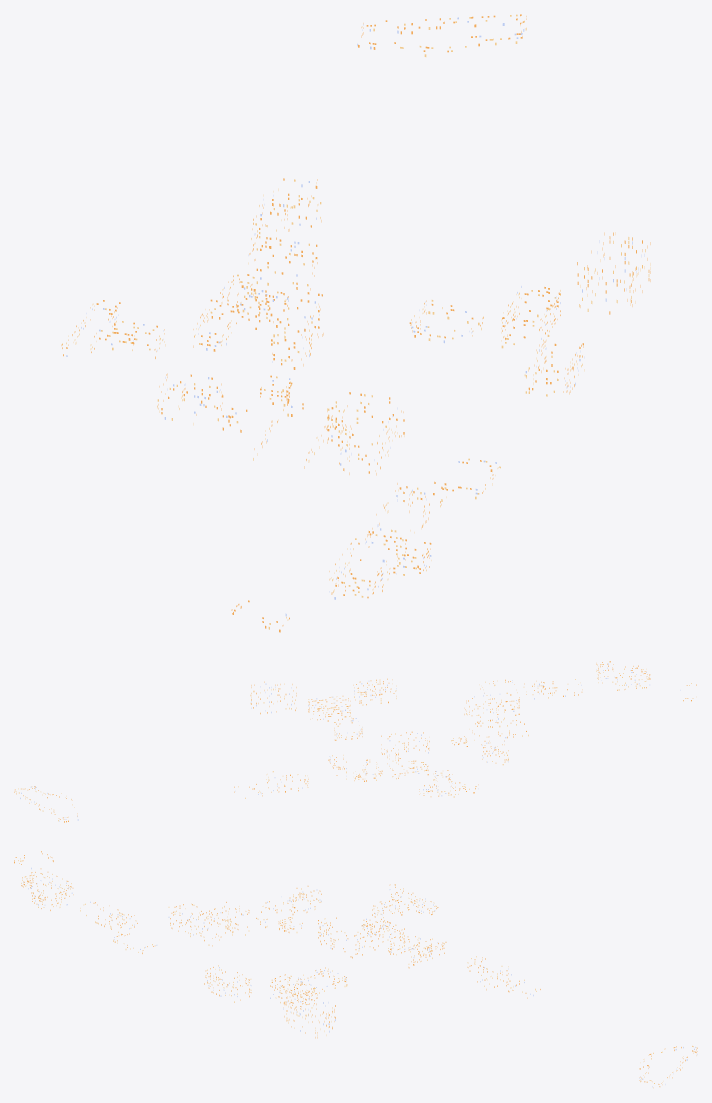
File: buildings-medical-lights-dusk.glb
The picture shows the model from 3 angles, top to bottom: view 1: azimuth 30°, elevation 25°; view 2: azimuth 150°, elevation 25°; view 3: azimuth 270°, elevation 25°; orthographic projection. The views are drawn at different scales.
Visible parts, largest first — view 1: buildings-medical-lights-dusk; view 2: buildings-medical-lights-dusk; view 3: buildings-medical-lights-dusk.
Part boxes in pixels (x1,y1,x2,y2): buildings-medical-lights-dusk: (61,14,650,632); buildings-medical-lights-dusk: (14,661,696,822); buildings-medical-lights-dusk: (14,851,697,1088).
Bounding box in the file's own units: 756 × 42.6 × 938.
